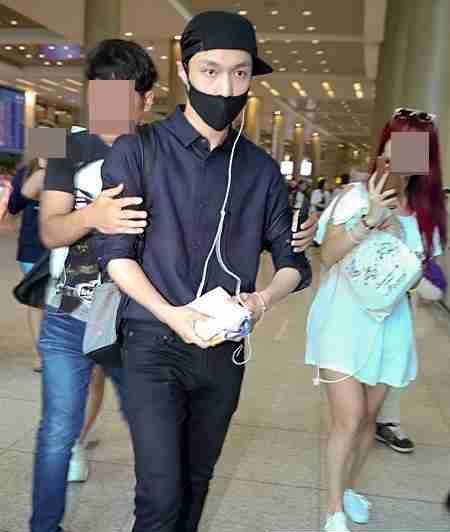WRONG: (184, 49, 253, 131)
